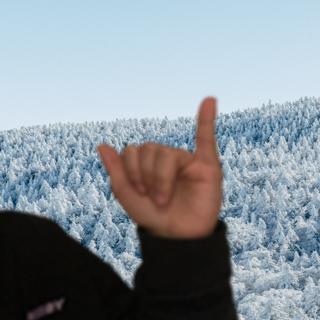HAVE: (85, 90, 234, 242)
